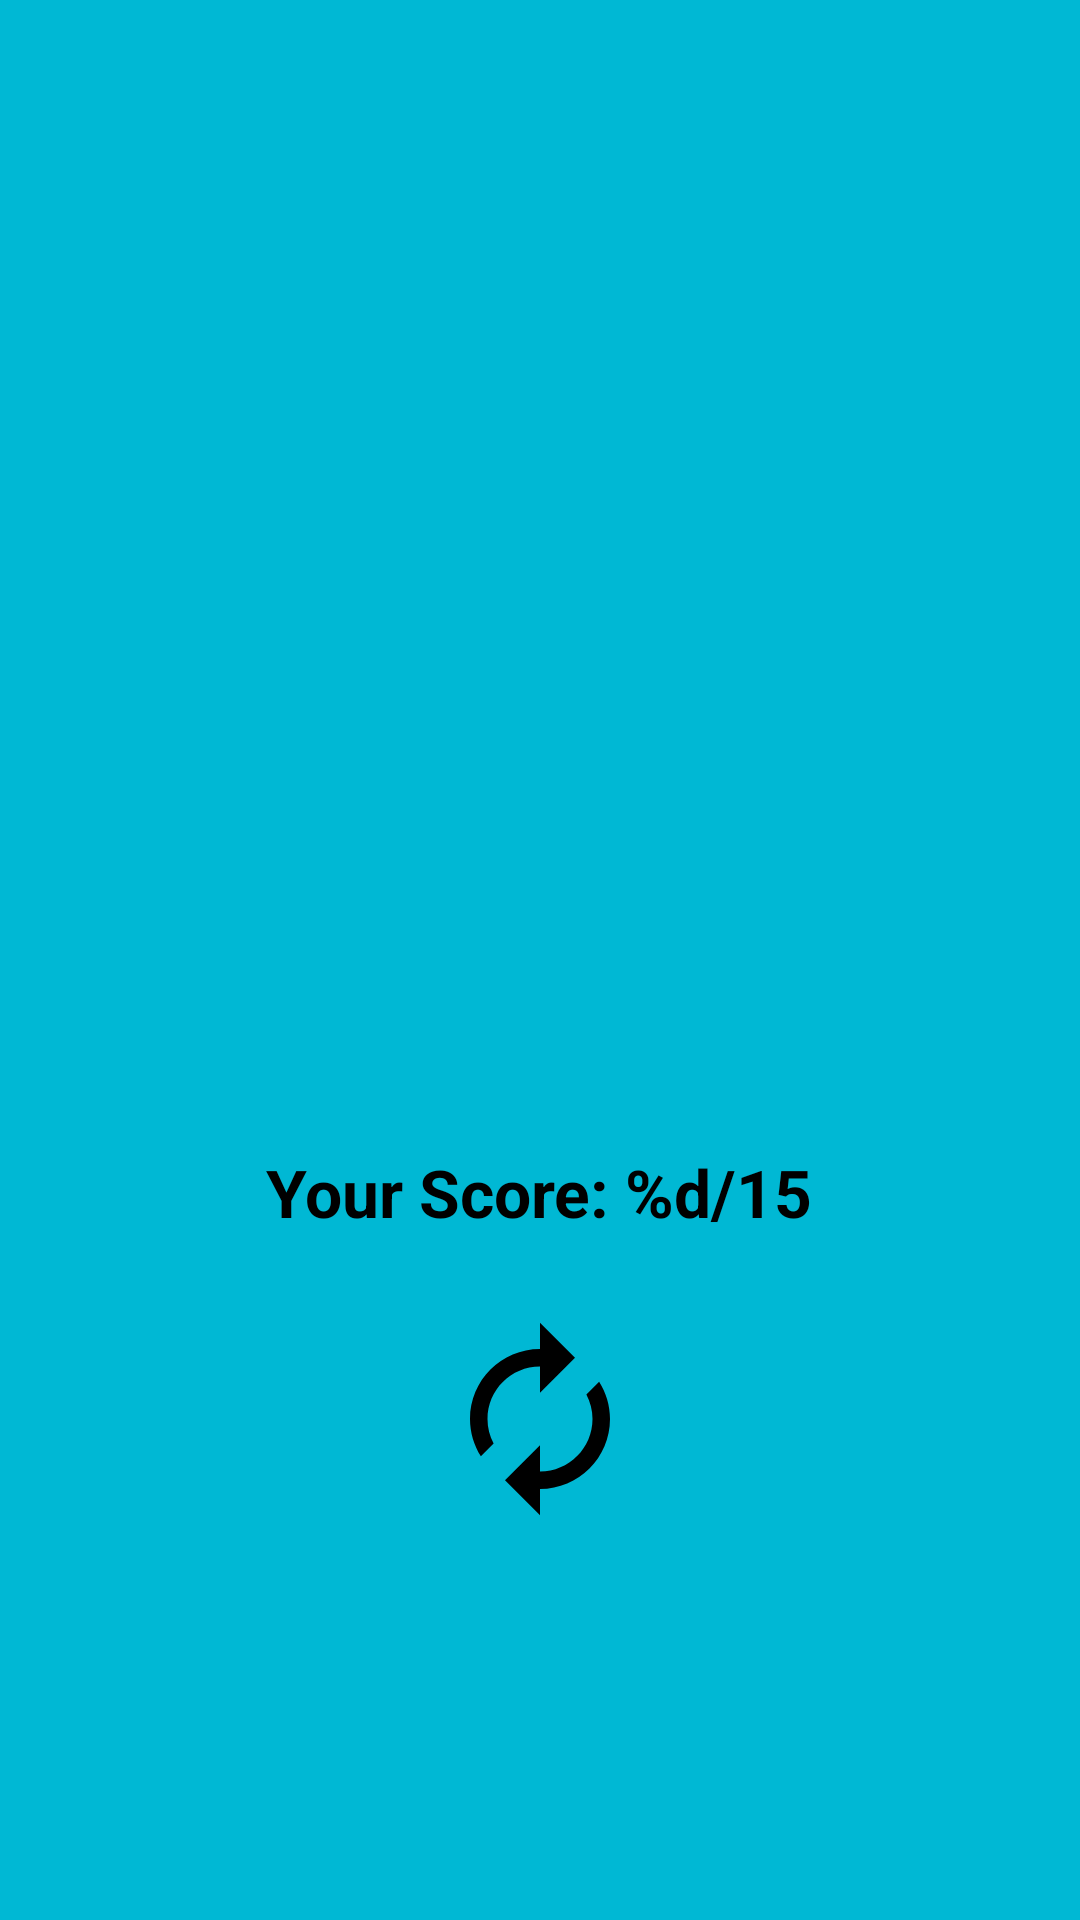

Locate icon controls on the screen. Image size 1080px x 1920px, boxes as (x1, y1, x2, y2).
autorenew: (470, 1323, 610, 1515)
